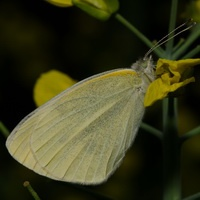insect: (6, 56, 199, 184)
